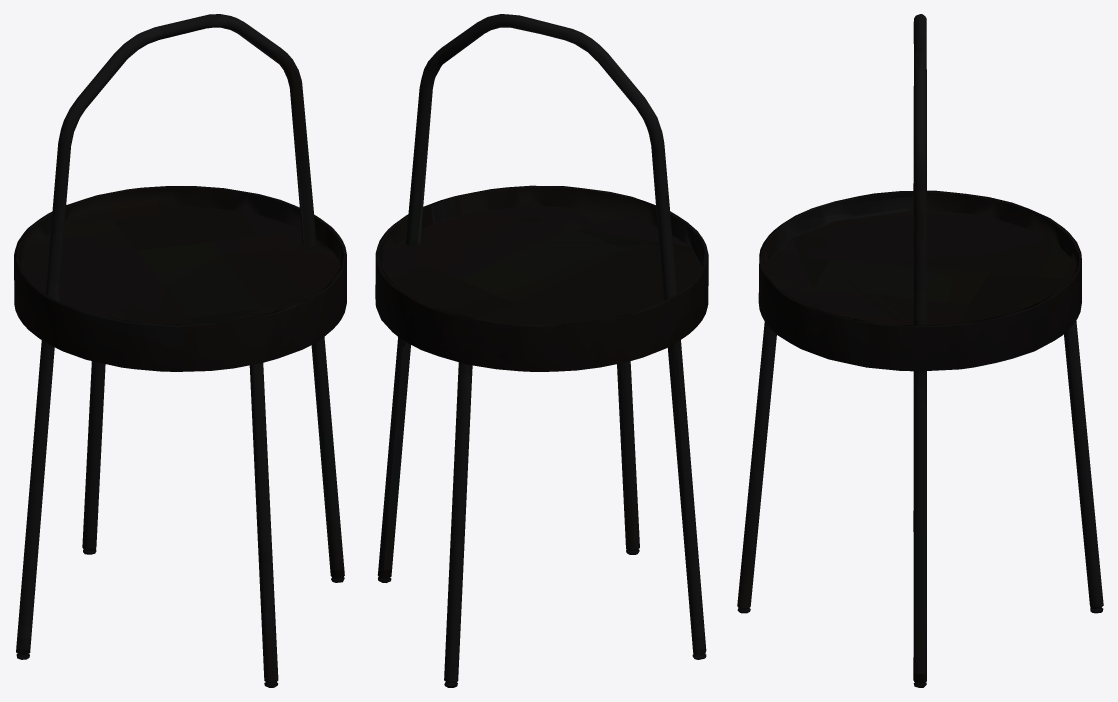
Rendered from 18 - BURVIK - 邊桌，黑色，38 公分 IKEA 線上購物.glb.
The picture shows the model from 3 angles, left to right: view 1: azimuth 30°, elevation 25°; view 2: azimuth 150°, elevation 25°; view 3: azimuth 270°, elevation 25°; orthographic projection. The views are drawn at different scales.
Parts seen in each view (by area): view 1: ProcessedMeshNode; view 2: ProcessedMeshNode; view 3: ProcessedMeshNode.
Part boxes in pixels (x1=…): ProcessedMeshNode: x1=14, y1=14, x2=346, y2=687; ProcessedMeshNode: x1=375, y1=14, x2=708, y2=687; ProcessedMeshNode: x1=737, y1=14, x2=1103, y2=687.
Size of the model in its own units: 0.4448 by 0.776 by 0.4444.
Materials: 1 (1 with a texture image).
